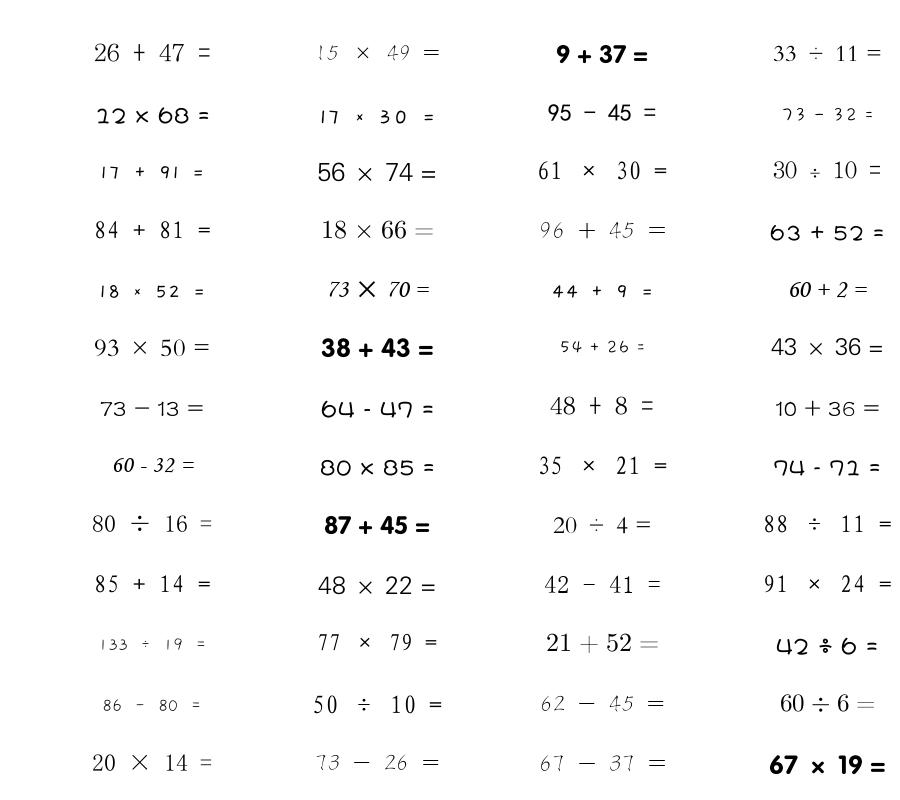MQ: (537, 161, 667, 180), (537, 456, 667, 475), (312, 695, 442, 714), (317, 162, 437, 182), (546, 633, 659, 654), (769, 755, 886, 775), (763, 515, 892, 533), (763, 575, 892, 593), (539, 221, 666, 239), (321, 338, 434, 358), (318, 576, 436, 595), (94, 43, 211, 62), (317, 633, 437, 651), (539, 755, 666, 772), (321, 220, 434, 239), (771, 337, 884, 356), (540, 695, 665, 712), (315, 754, 440, 771), (324, 515, 430, 535), (94, 221, 211, 239), (94, 575, 211, 593), (544, 575, 661, 593), (94, 339, 210, 357), (92, 515, 212, 532), (92, 754, 212, 771), (321, 400, 434, 418), (315, 45, 440, 61), (550, 396, 654, 415), (95, 107, 210, 124), (320, 459, 435, 476), (773, 161, 881, 179), (770, 224, 884, 241), (773, 45, 882, 62), (556, 44, 648, 64), (548, 104, 656, 121), (776, 637, 878, 655), (775, 400, 880, 417), (326, 281, 429, 298), (773, 460, 881, 476), (780, 694, 875, 712), (553, 517, 652, 534), (319, 110, 436, 124), (100, 401, 204, 416), (98, 638, 207, 651), (781, 107, 874, 122), (99, 285, 206, 298), (100, 166, 205, 179), (551, 285, 654, 298), (102, 699, 202, 712), (787, 282, 867, 298), (111, 458, 194, 473), (559, 340, 646, 354)
